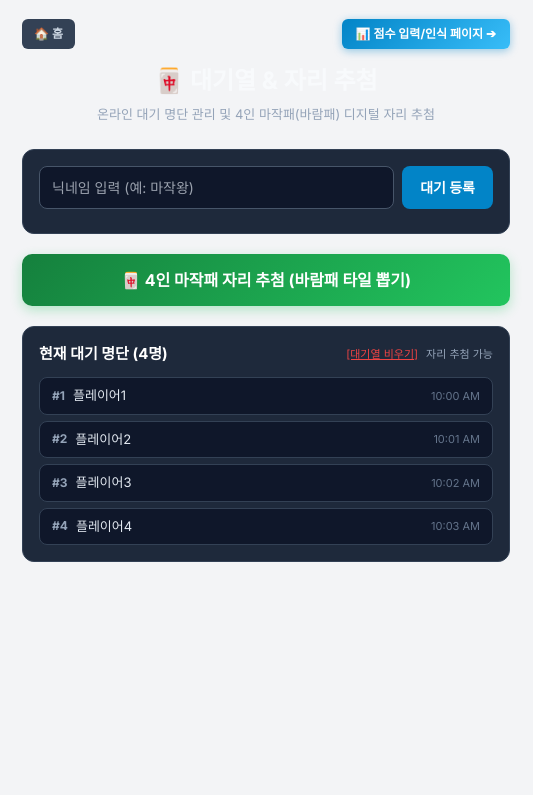
Test: QueuePage component › shows draw button when 4 players are queued, and renders 3D wind tiles on click
The width and height of the screenshot is (533, 795).
Expected: the text "자리 추첨 가능" is shown, 426,346 -> 493,362
Click the button "🀄 4인 마작패 자리 추첨 (바람패 타일 뽑기)" at (266, 280), box 22,254 -> 510,306
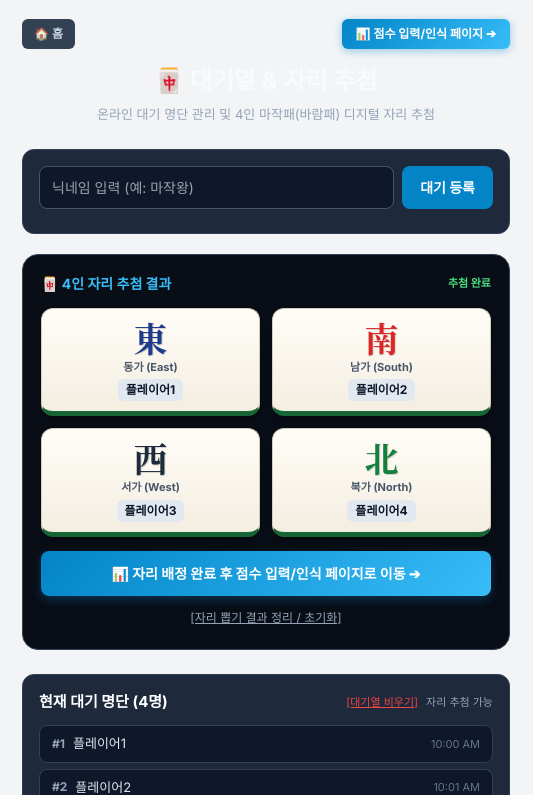
Result: the text "東" is shown at 134,320 -> 168,354
Result: the text "南" is shown at 364,320 -> 398,354
Result: the text "西" is shown at 134,441 -> 168,475
